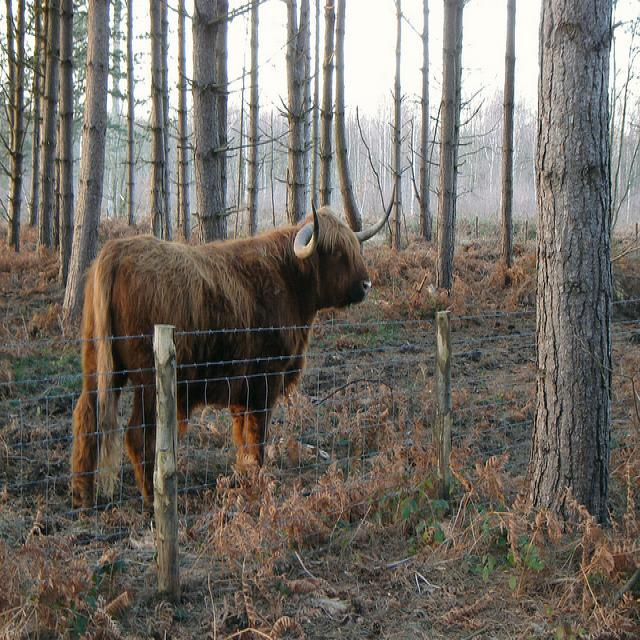cow: (66, 181, 394, 508)
